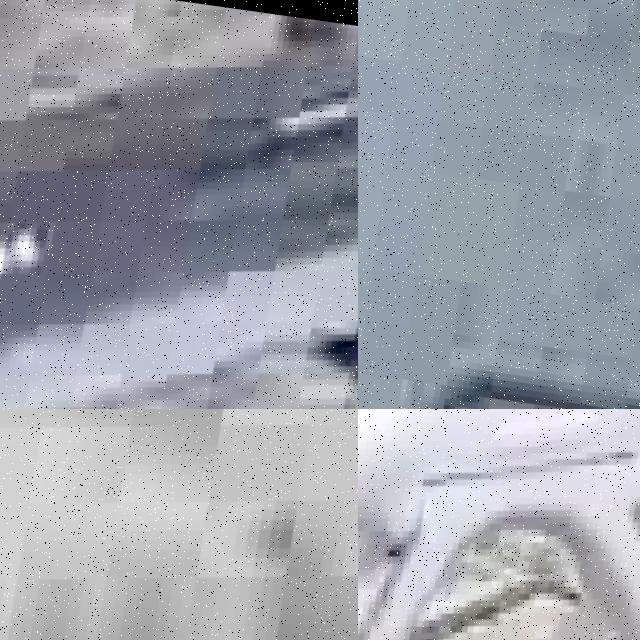drone: (0, 0, 358, 409), (0, 409, 358, 640), (358, 409, 640, 640)
